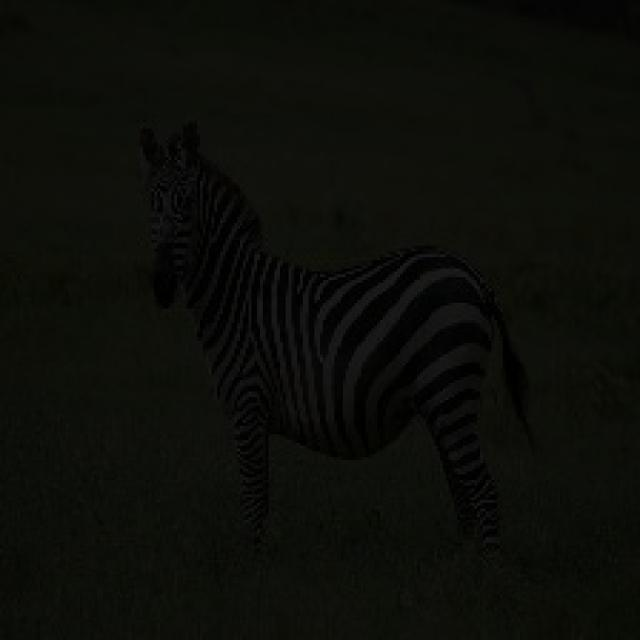bear: (97, 108, 584, 576)
